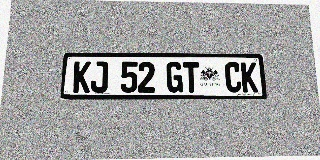2: (138, 62, 155, 93)
5: (121, 61, 138, 93)
C: (225, 62, 242, 92)
G: (166, 62, 183, 93)
J: (90, 61, 108, 93)
K: (73, 61, 91, 93), (241, 62, 258, 92)
T: (183, 62, 200, 93)
